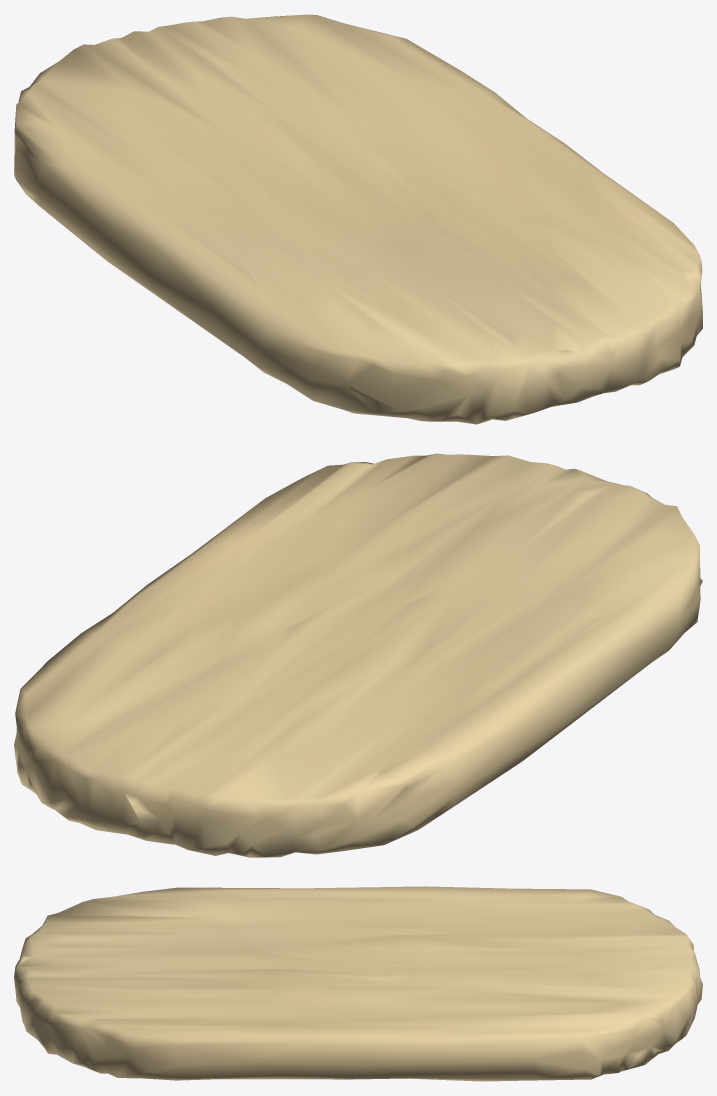
Rendered from shore_lolly_stick_lod1.glb.
The picture shows the model from 3 angles, top to bottom: view 1: azimuth 30°, elevation 25°; view 2: azimuth 150°, elevation 25°; view 3: azimuth 270°, elevation 25°; orthographic projection. The views are drawn at different scales.
Visible parts, largest first — view 1: shore_lolly_stick.001; view 2: shore_lolly_stick.001; view 3: shore_lolly_stick.001.
Boxes of the visible parts, x1=… form: shore_lolly_stick.001: x1=14, y1=14, x2=702, y2=424; shore_lolly_stick.001: x1=14, y1=453, x2=702, y2=857; shore_lolly_stick.001: x1=14, y1=886, x2=702, y2=1081.
Size of the model in its own units: 6.04 by 0.8827 by 11.01.
